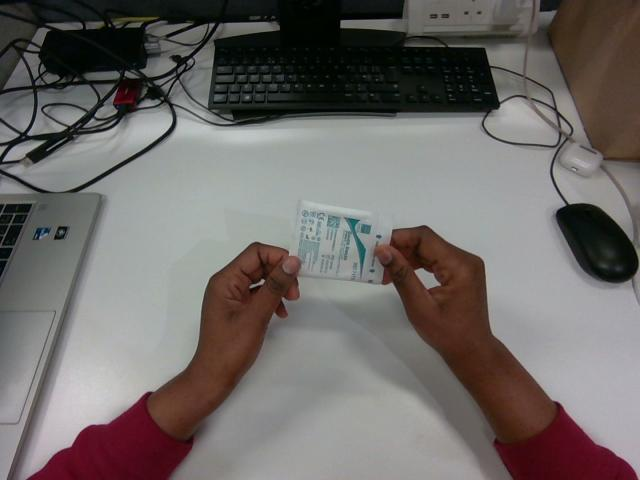gauze: (290, 201, 392, 283)
